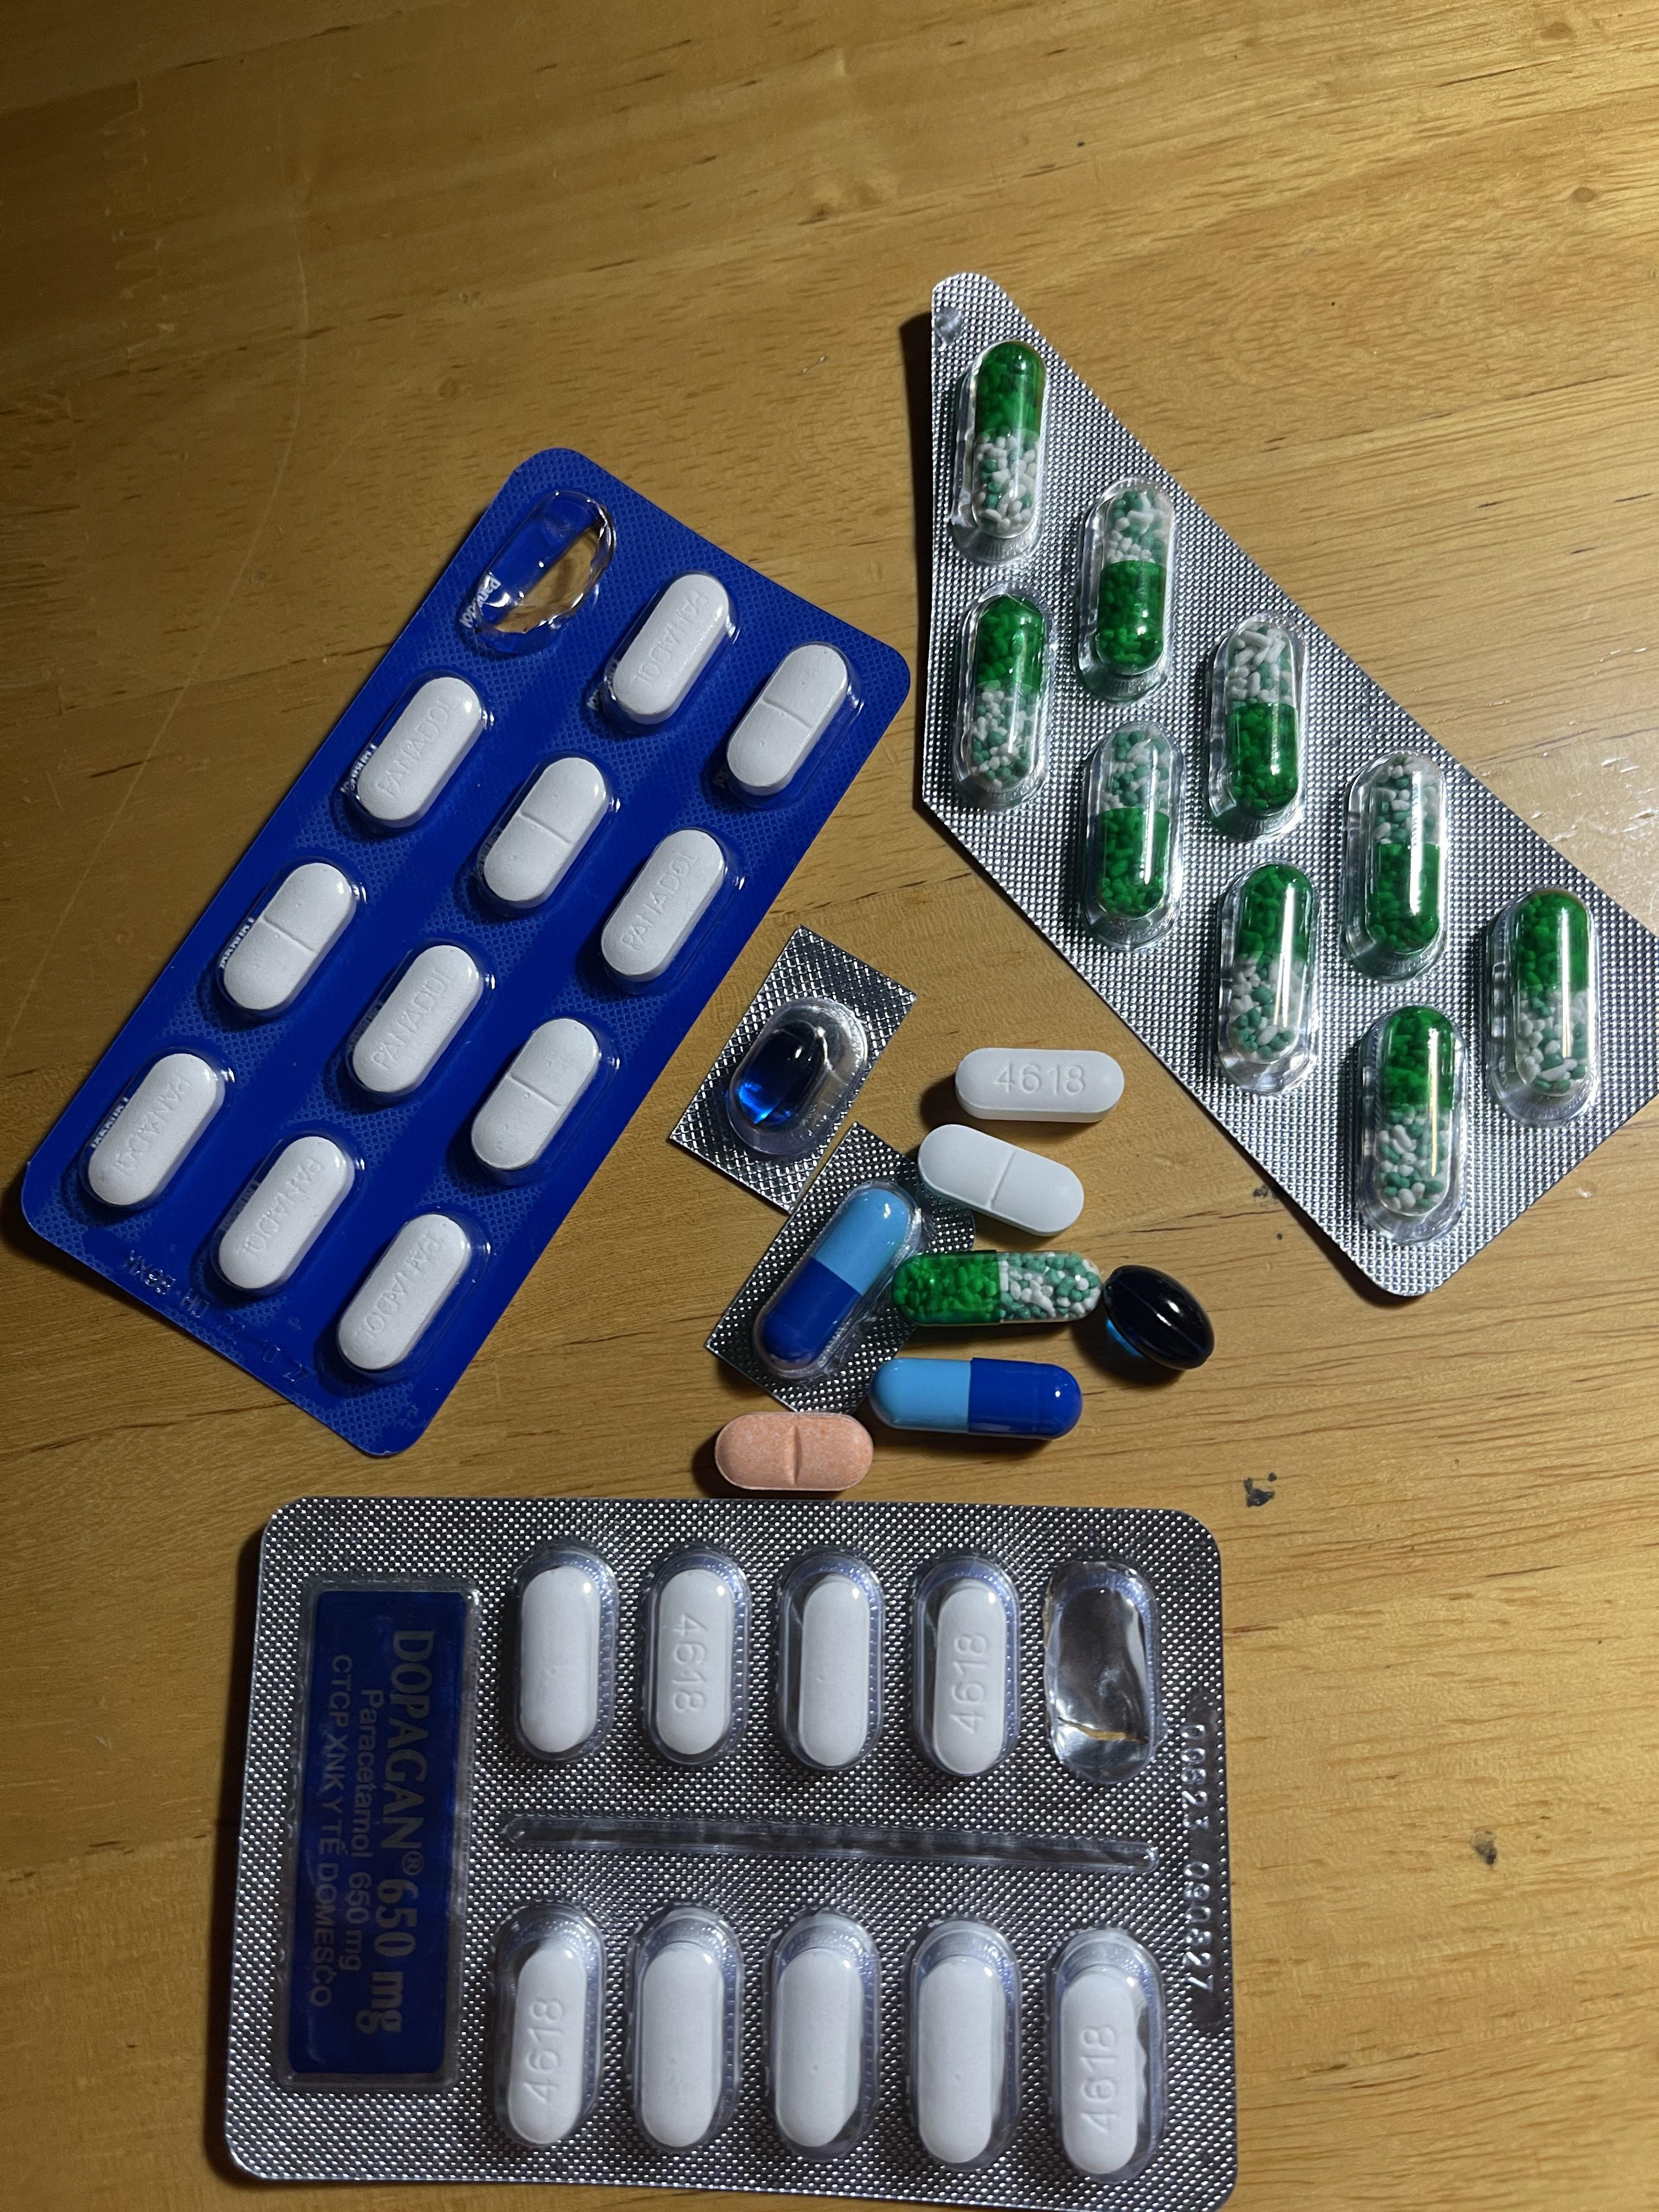Lincomyxin_500mg: (1101, 1264, 1213, 1372), (735, 1022, 833, 1129)
Loratadine_10mg: (714, 1409, 873, 1493)
Paracetamol_350mg: (213, 1129, 359, 1296), (85, 1050, 227, 1214), (343, 941, 484, 1104), (474, 754, 612, 920), (336, 1211, 474, 1374), (218, 860, 357, 1019), (347, 676, 484, 836), (596, 826, 730, 988), (471, 1017, 603, 1179), (720, 641, 850, 805), (603, 571, 735, 732), (917, 1122, 1084, 1235)
Paracetamol_500mg: (917, 1949, 1009, 2161), (774, 1939, 864, 2153), (638, 1937, 727, 2149), (504, 1937, 592, 2144), (1058, 1970, 1145, 2174), (518, 1564, 603, 1757), (653, 1573, 737, 1763), (795, 1573, 873, 1771), (927, 1585, 1007, 1778), (955, 1047, 1121, 1123)
Paracetamol_650mg: (1377, 1005, 1459, 1216), (1507, 895, 1588, 1103), (1223, 869, 1305, 1069), (890, 1251, 1100, 1327), (967, 599, 1047, 798), (969, 340, 1044, 543), (1093, 489, 1171, 679), (1225, 627, 1298, 824), (1094, 733, 1173, 913), (1364, 770, 1441, 949)
pill: (751, 1179, 918, 1379), (871, 1359, 1079, 1442)
